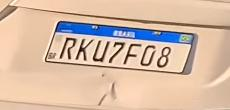Placa_mercosul_carro: (44, 21, 195, 74)
